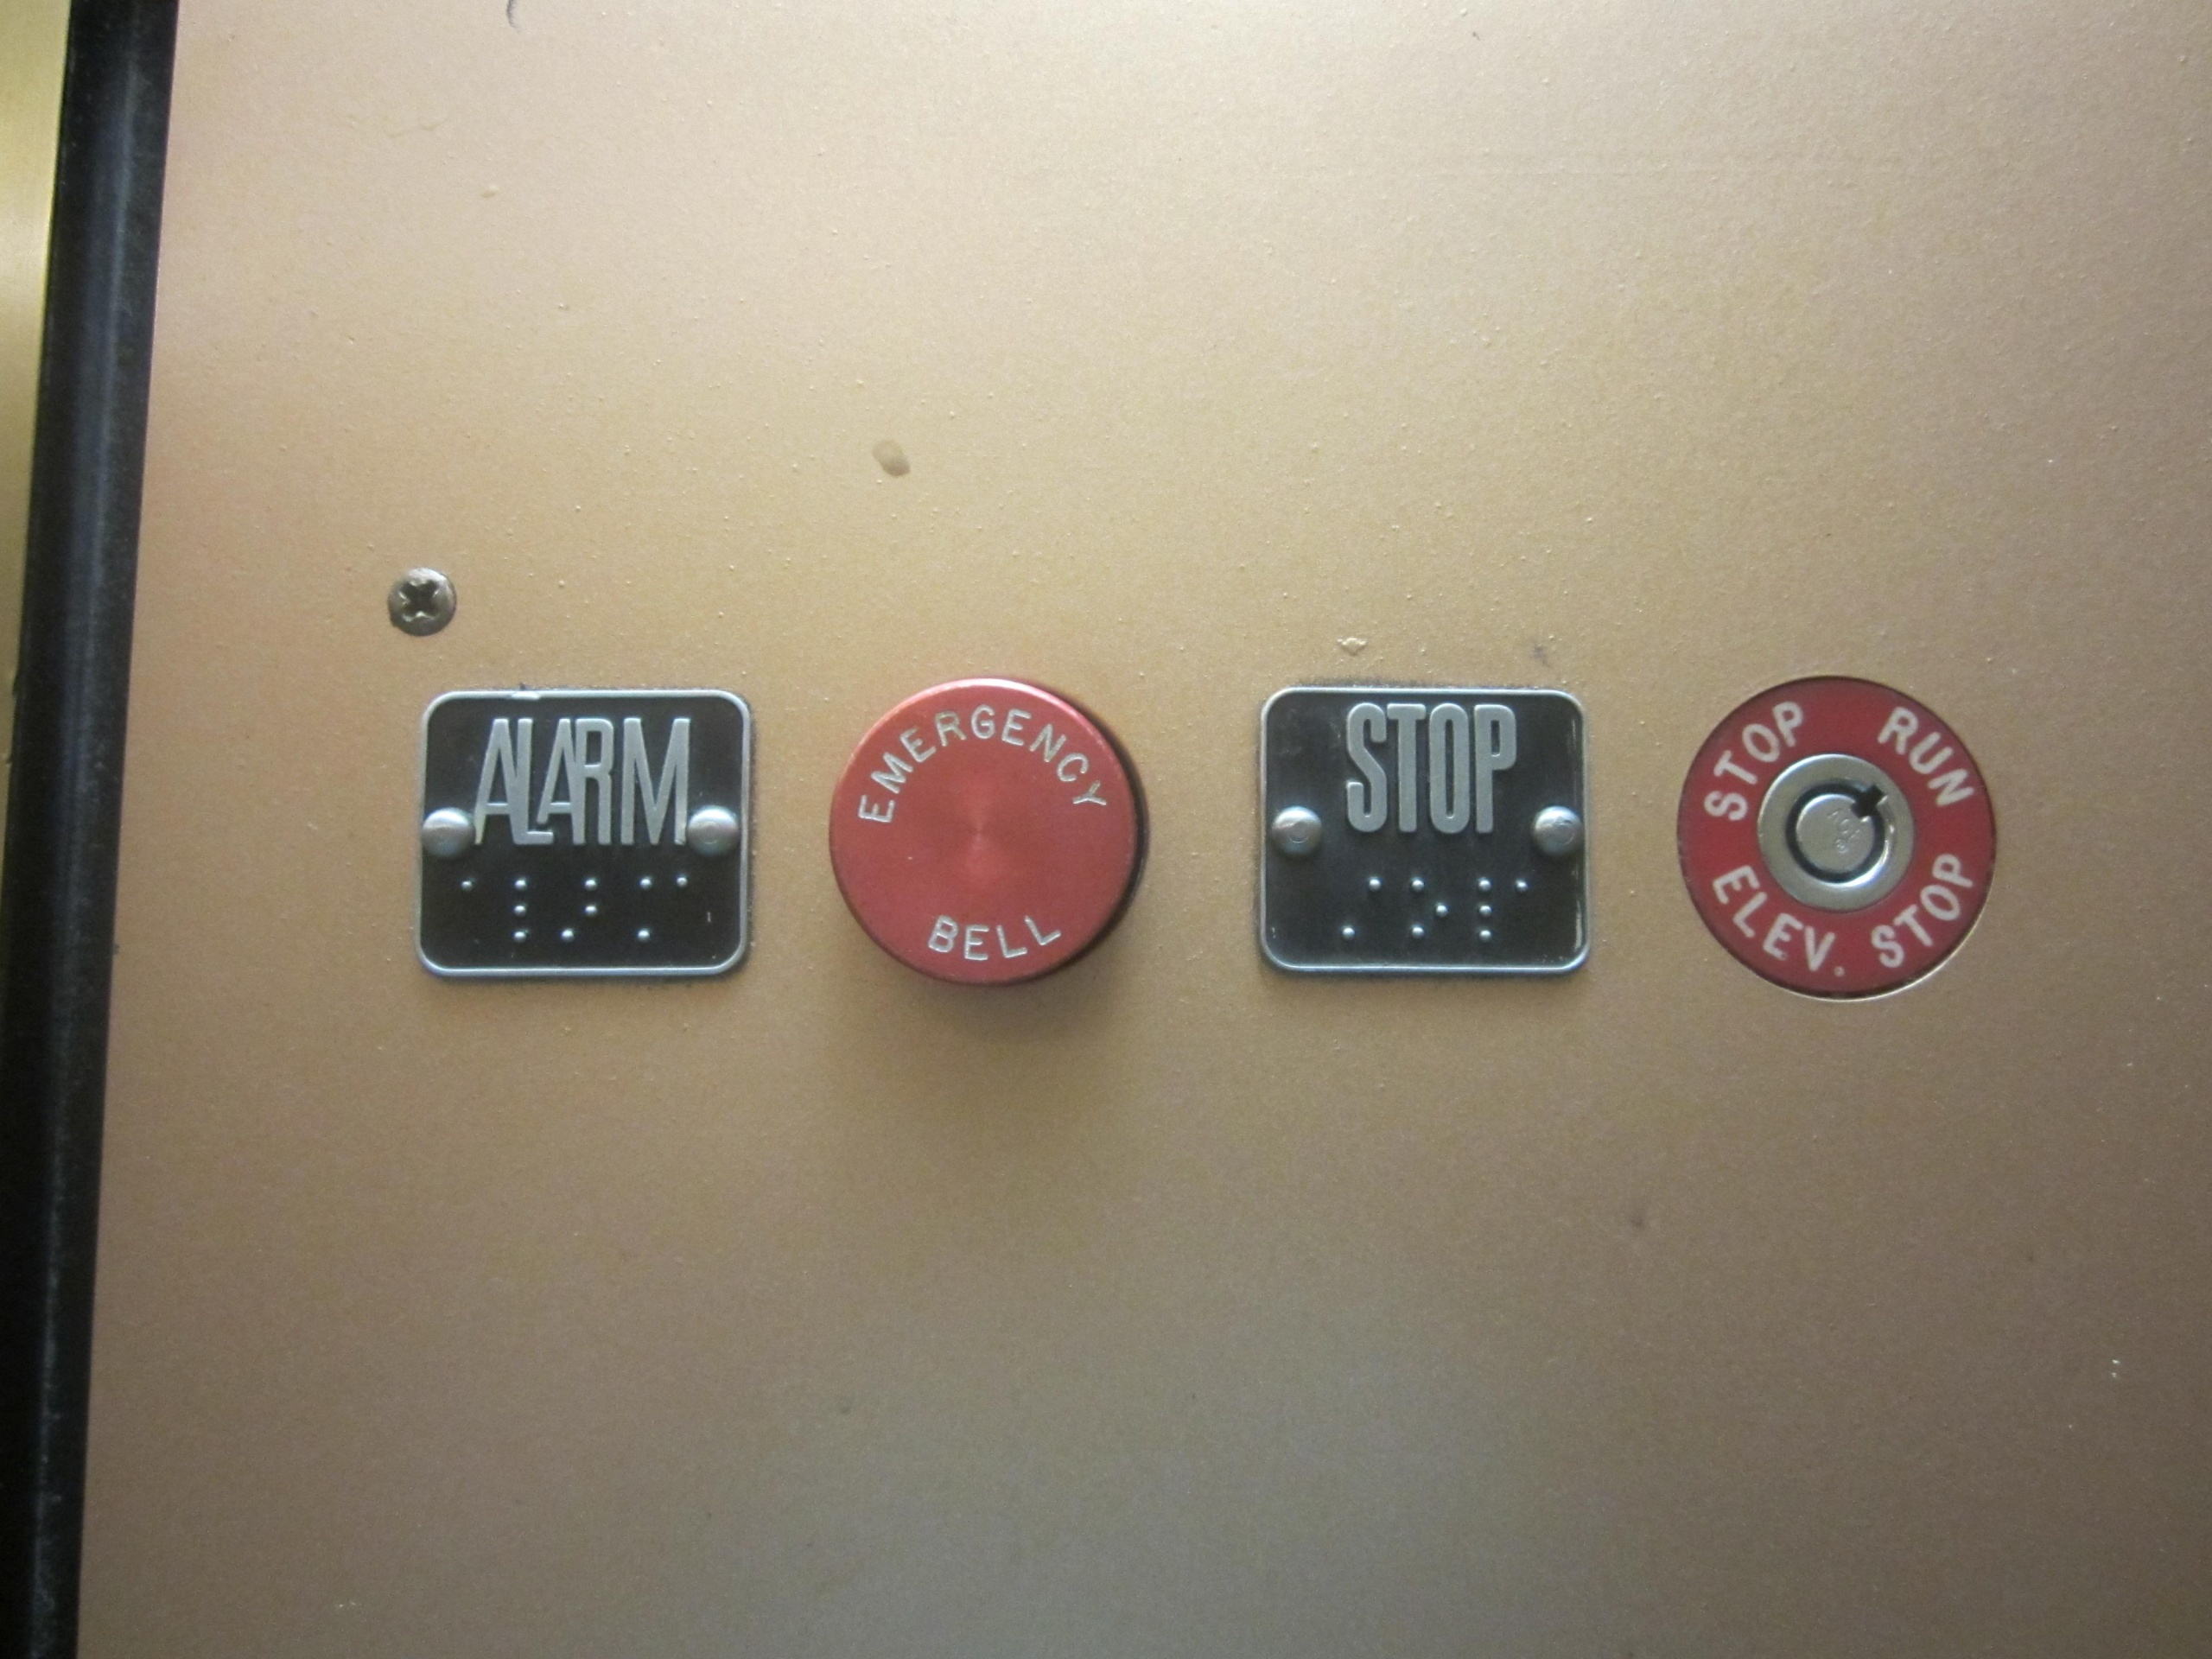keyhole: (1651, 657, 2010, 1009)
text: (808, 669, 1163, 1004), (1245, 673, 1604, 988), (408, 674, 765, 990)
